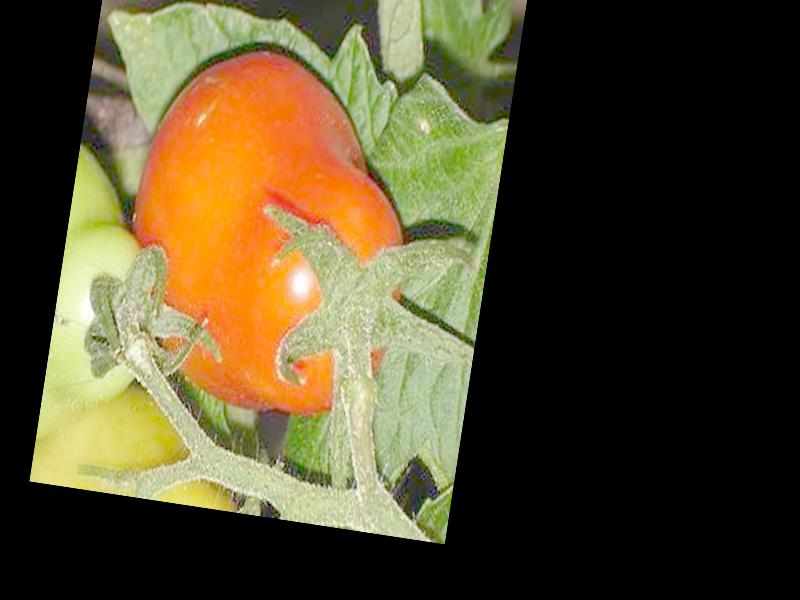Tomato: (109, 34, 432, 425)
